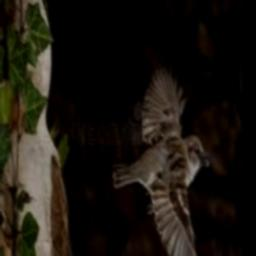Sparrow: (112, 65, 215, 256)
